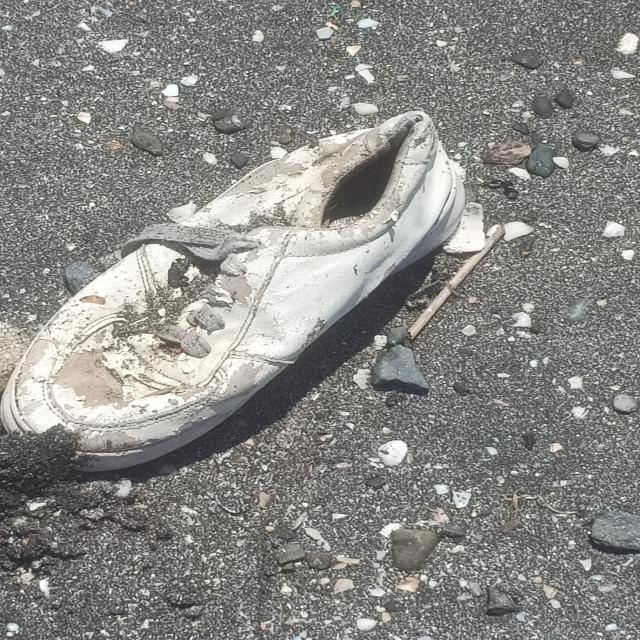rubber_waste: (0, 108, 469, 474)
